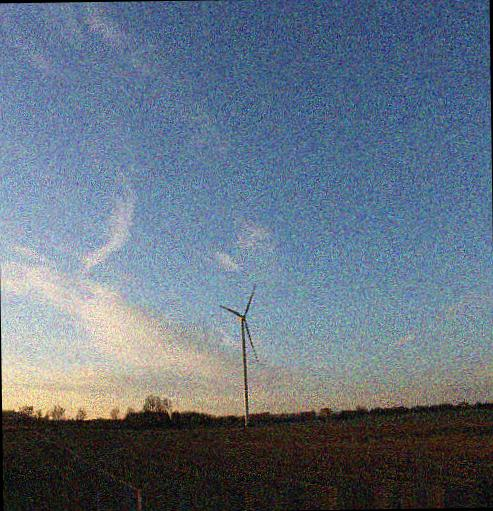wind turbine: (219, 283, 265, 423)
